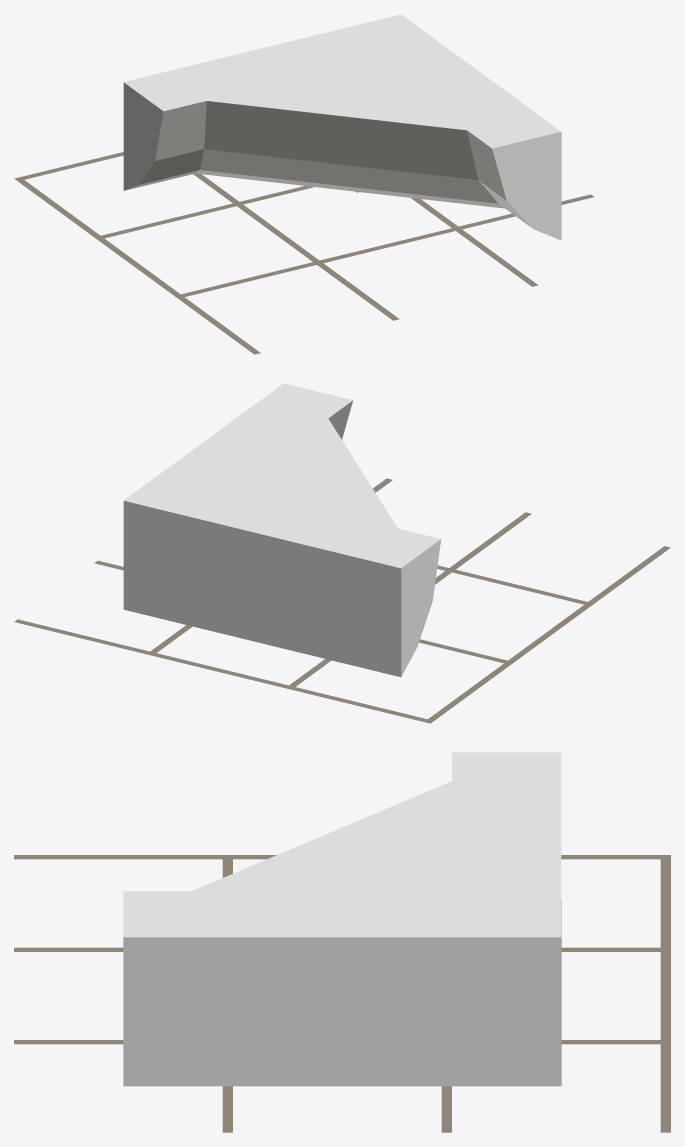
File: Basic_Curve_Inner_2x2_Wide_Under.glb
3 renders of one model, top to bottom at view 1: azimuth 30°, elevation 25°; view 2: azimuth 150°, elevation 25°; view 3: azimuth 270°, elevation 25°, orthographic. The views are drawn at different scales.
Visible parts, largest first — view 1: Basic_Curve_Inner_2x2_Wide_Under, Floor; view 2: Basic_Curve_Inner_2x2_Wide_Under, Floor; view 3: Basic_Curve_Inner_2x2_Wide_Under, Floor.
Boxes of the visible parts, x1=… form: Basic_Curve_Inner_2x2_Wide_Under: x1=123, y1=14, x2=561, y2=240; Floor: x1=14, y1=152, x2=593, y2=354; Basic_Curve_Inner_2x2_Wide_Under: x1=123, y1=383, x2=441, y2=677; Floor: x1=14, y1=478, x2=670, y2=723; Basic_Curve_Inner_2x2_Wide_Under: x1=123, y1=752, x2=561, y2=1086; Floor: x1=14, y1=855, x2=670, y2=1132.
Bounding box in the file's own units: 300 × 75 × 300.
Materials: 3 (1 with a texture image).
